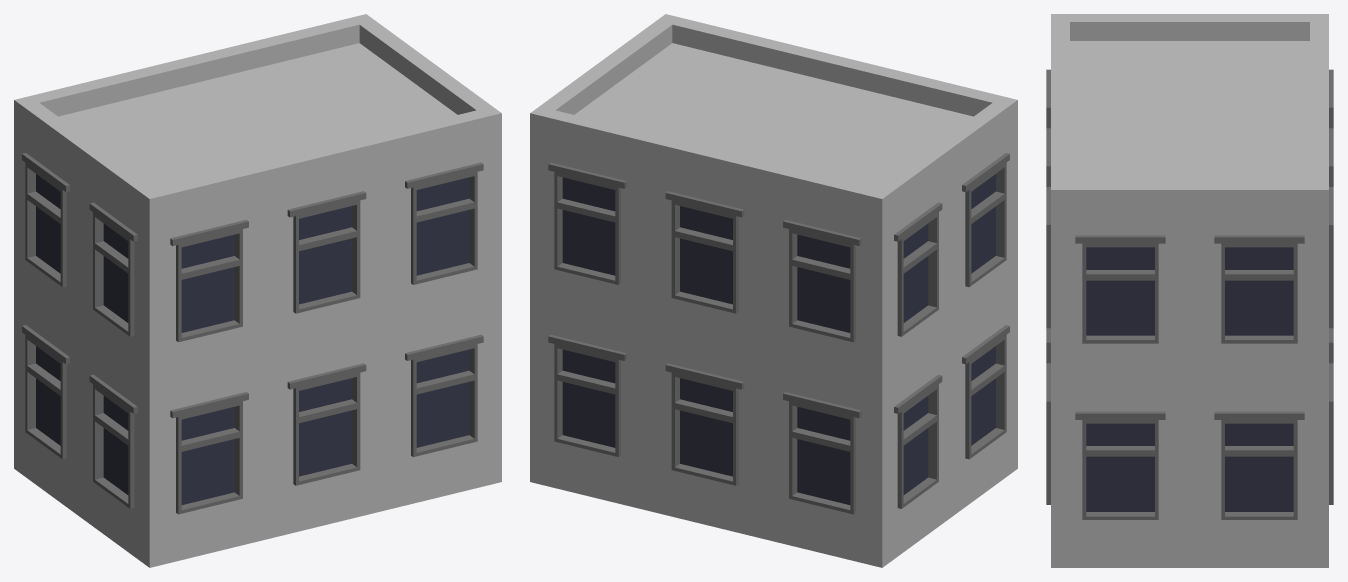
The model's file is 2buildingbody2.gltf.
3 renders of one model, left to right at view 1: azimuth 30°, elevation 25°; view 2: azimuth 150°, elevation 25°; view 3: azimuth 270°, elevation 25°, orthographic. The views are drawn at different scales.
Parts seen in each view (by area): view 1: Main building, Window frames, Window glass; view 2: Main building, Window frames, Window glass; view 3: Main building, Window glass, Window frames.
Part boxes in pixels (left/top/right/bottom): Main building: left=14, top=14, right=501, bottom=567; Window frames: left=22, top=153, right=483, bottom=514; Window glass: left=36, top=174, right=469, bottom=504; Main building: left=530, top=14, right=1017, bottom=567; Window frames: left=548, top=153, right=1009, bottom=514; Window glass: left=562, top=174, right=995, bottom=504; Main building: left=1051, top=14, right=1328, bottom=567; Window glass: left=1086, top=247, right=1293, bottom=511; Window frames: left=1046, top=69, right=1333, bottom=519.
Size of the model in its own units: 0.0614 by 0.0601 by 0.0414.
